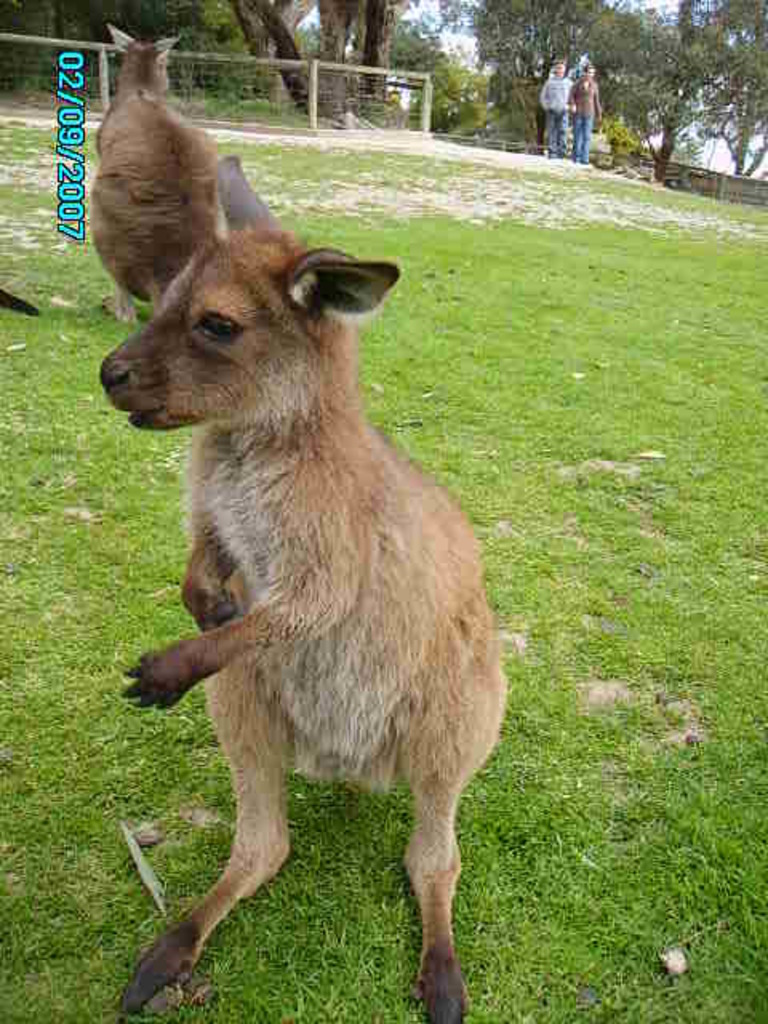kangaroo: (99, 154, 505, 1023)
